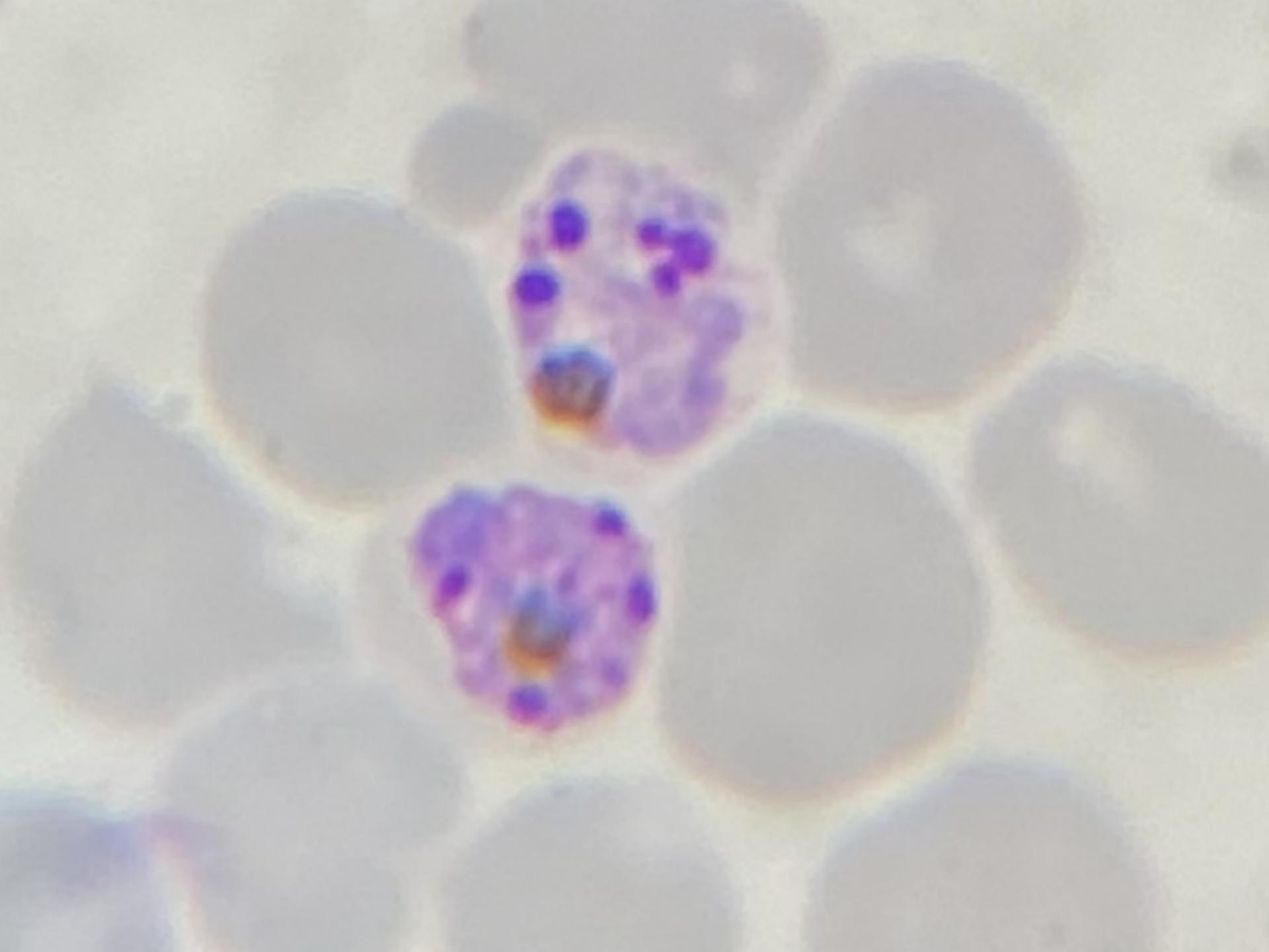Infected: (502, 131, 777, 475), (362, 470, 674, 767)
Uninfected: (657, 417, 1005, 799), (0, 368, 367, 724), (758, 62, 1091, 425), (203, 184, 514, 505), (954, 360, 1269, 671), (137, 666, 451, 952), (802, 765, 1172, 952), (460, 0, 833, 163)
